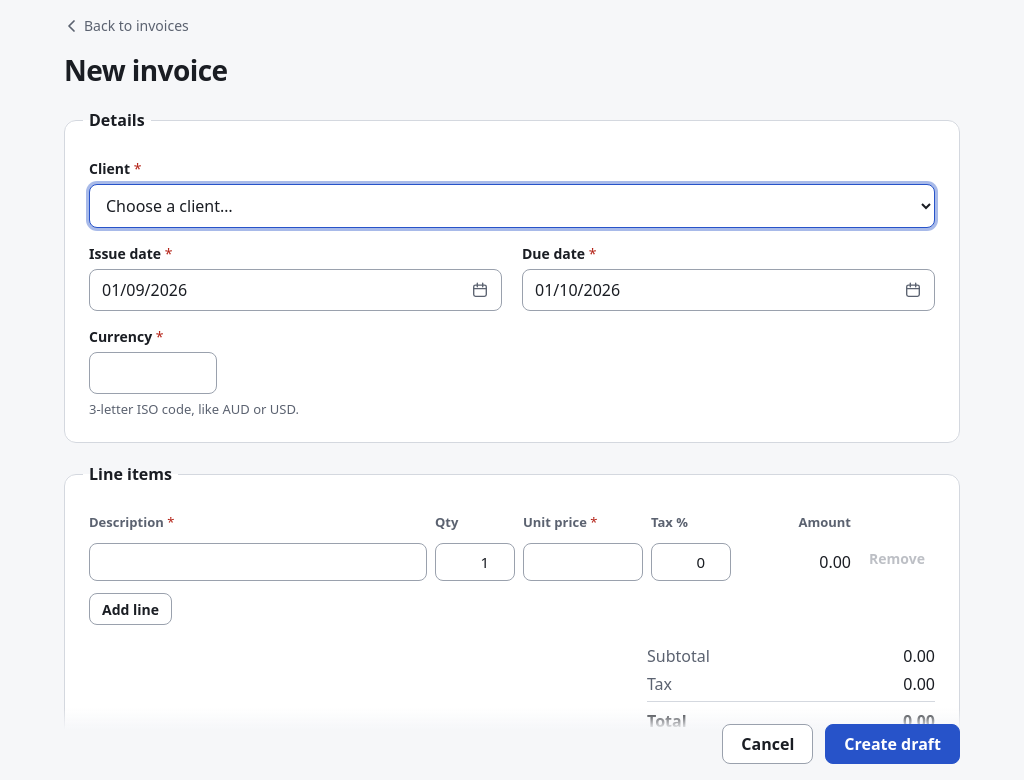
Test case: InvoiceForm › defaults the currency to the chosen client’s preferred currency
Select "Globex" in the dropdown labelled "Client *" at (512, 206), box [89,184,935,228]
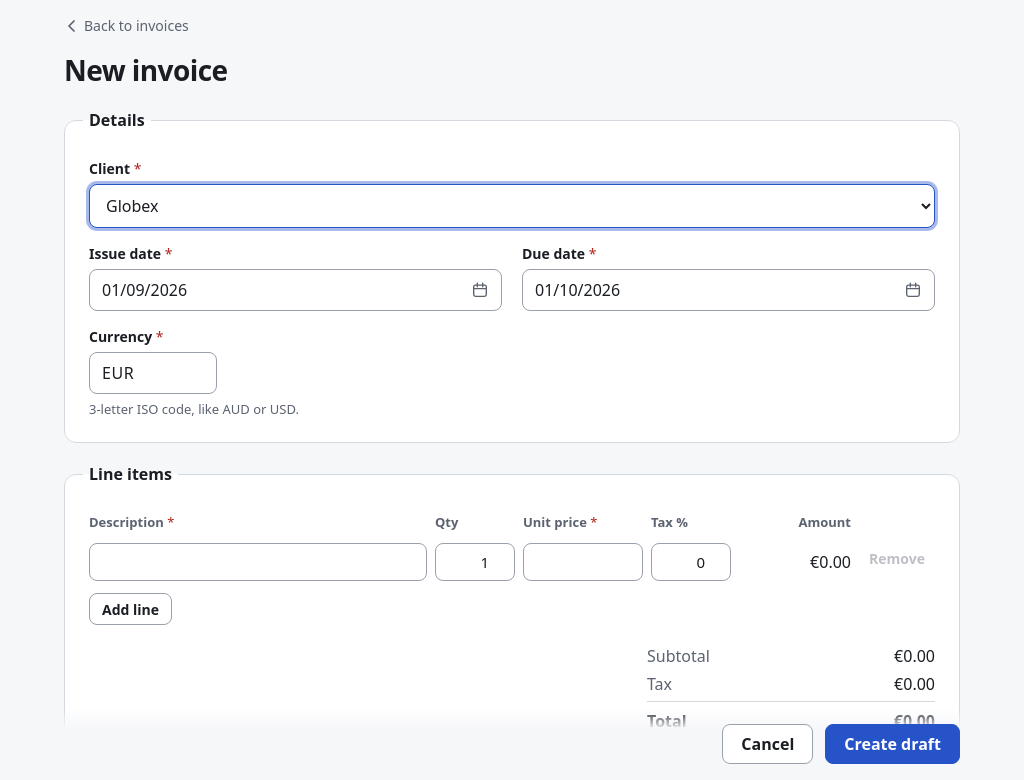
expect the field labelled "Currency *" holds "EUR": met, box [89,352,217,394]
